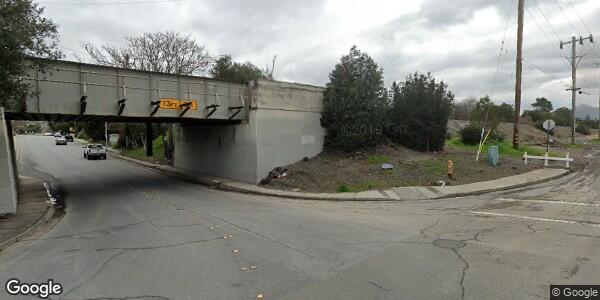Wood_Pole: (558, 33, 594, 146), (511, 1, 527, 150)
